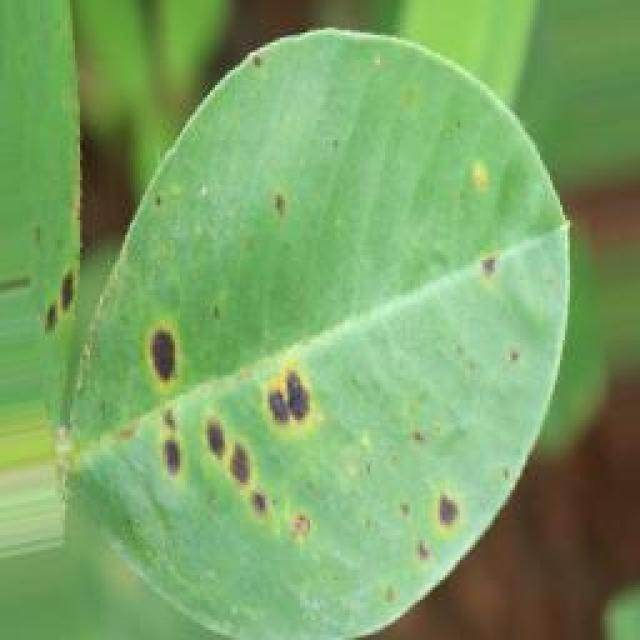Sigatoka: (101, 310, 192, 498), (379, 447, 481, 599), (188, 399, 273, 548), (232, 351, 332, 465), (449, 228, 534, 323), (230, 158, 323, 236), (265, 486, 327, 578)
